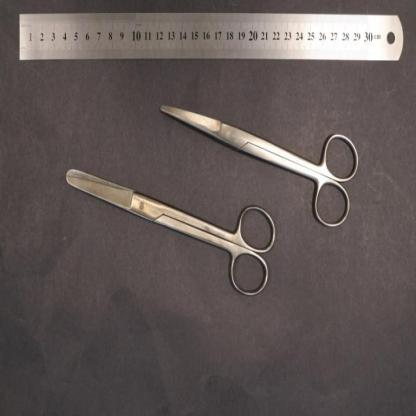Curved Mayo Scissors: (160, 105, 362, 228)
Dressing Scissors: (66, 167, 278, 299)
